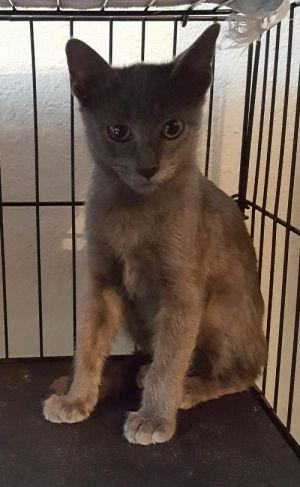rblue: (48, 21, 239, 217)
